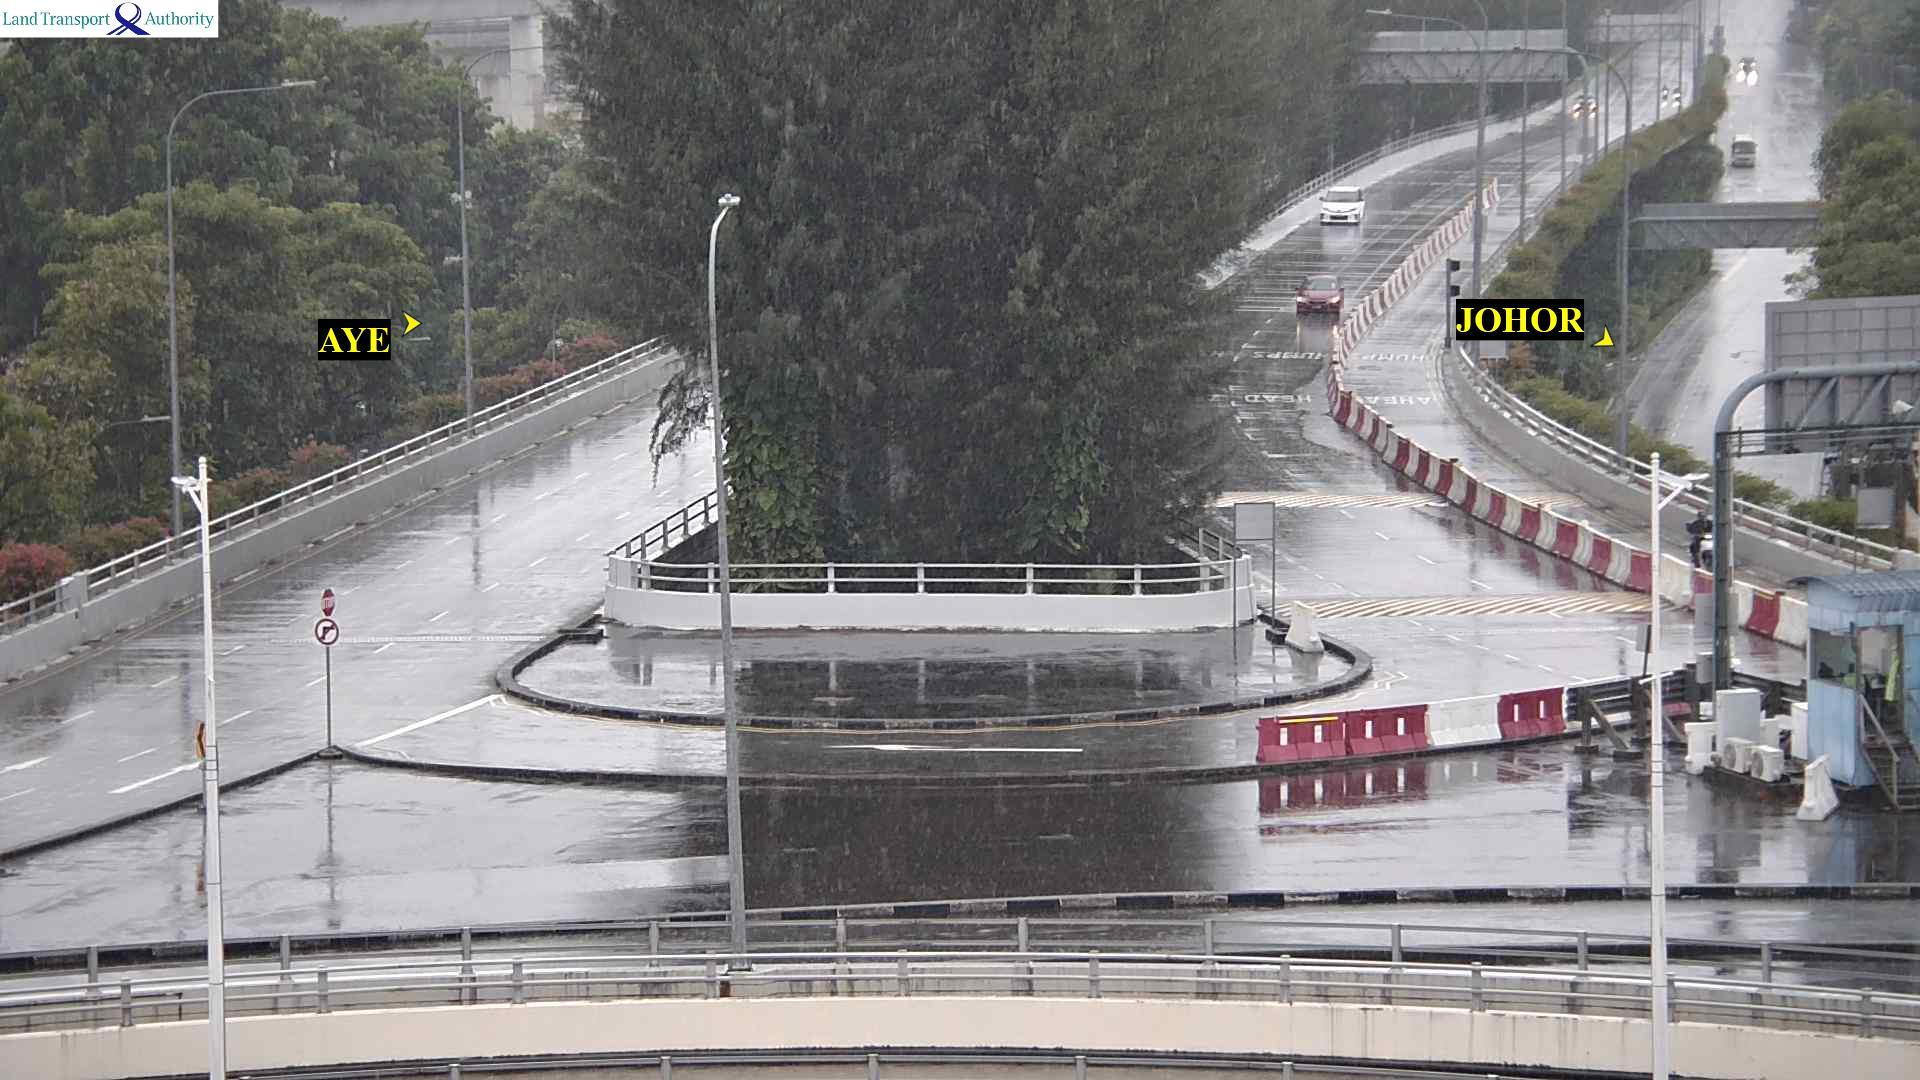vehicle-secondlink-johor: (1294, 279, 1347, 316), (1323, 193, 1373, 227)
